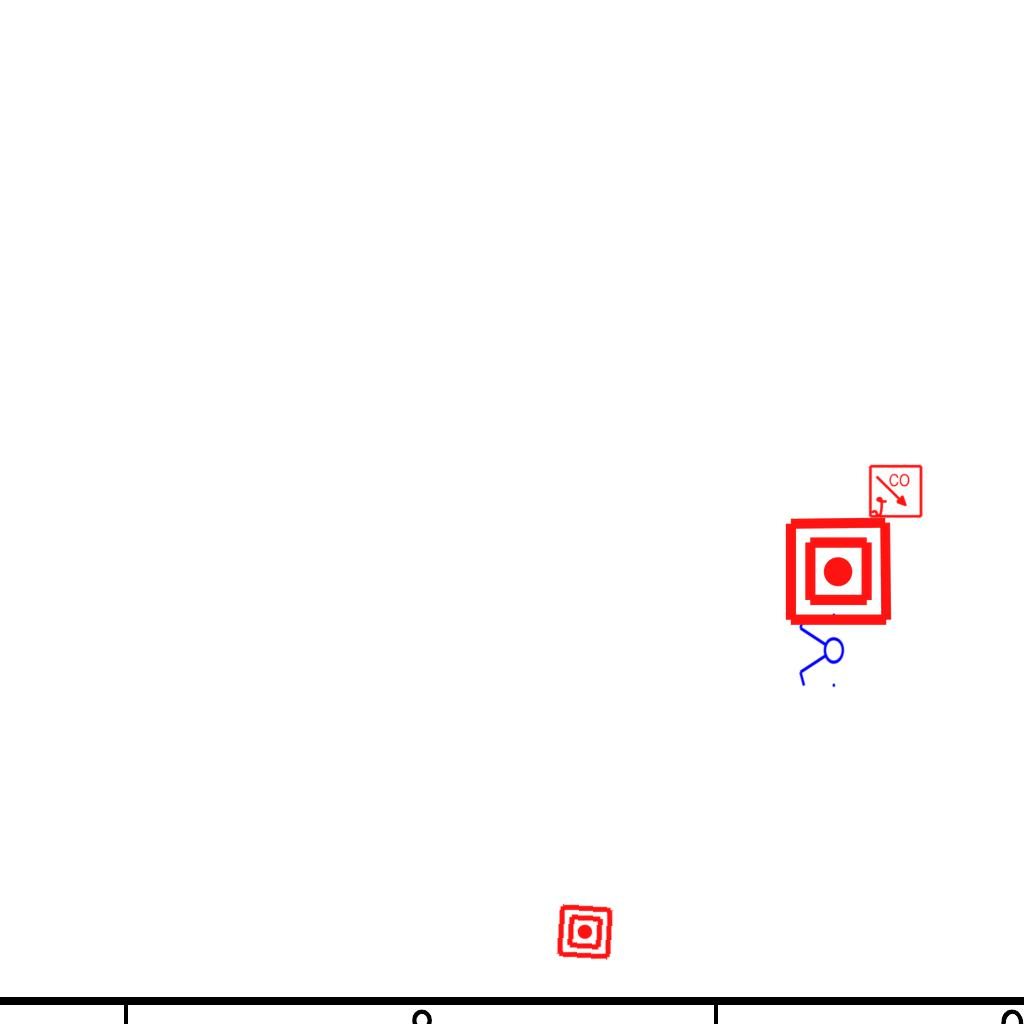NAM-Nichtautomatischer_Melder: (782, 515, 895, 628), (555, 902, 615, 962)
ROA_Rauchmelder_optisch_mit_Signalgeber_(Sockelsirene): (868, 464, 924, 520)
Serienschalter: (797, 609, 845, 693)
